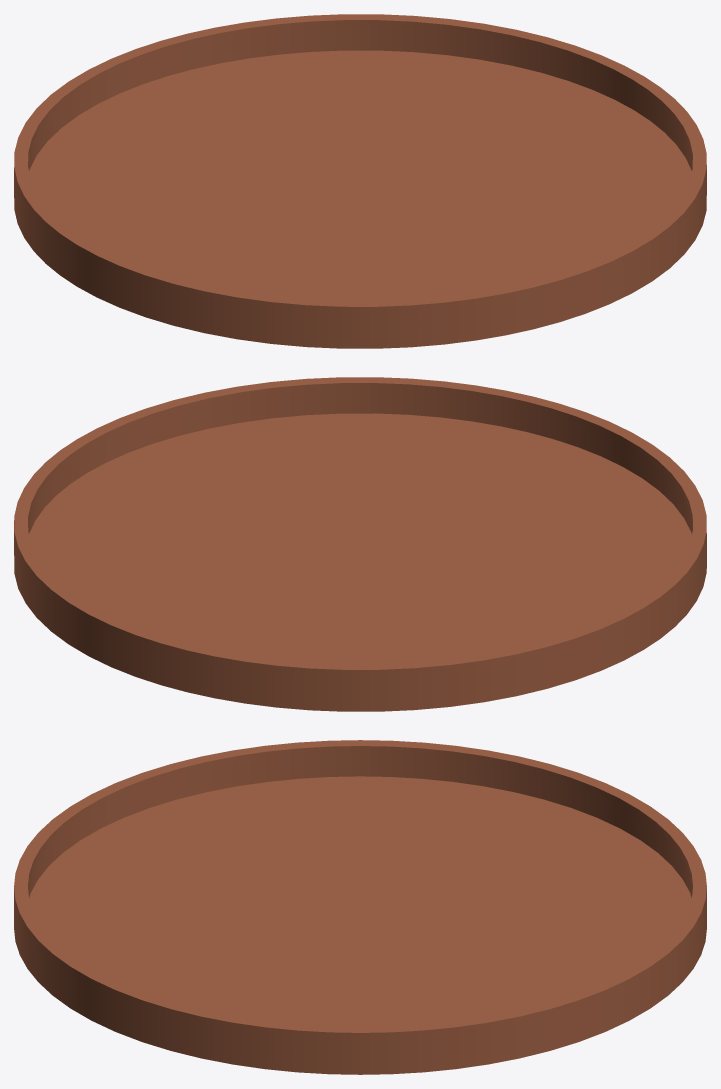
3 views of the same model, one above another, from view 1: azimuth 30°, elevation 25°; view 2: azimuth 150°, elevation 25°; view 3: azimuth 270°, elevation 25° (orthographic).
Parts seen in each view (by area): view 1: Body; view 2: Body; view 3: Body.
Part boxes in pixels (box(x1,y1,x2,y2)): Body: box(14, 14, 706, 348); Body: box(14, 377, 706, 711); Body: box(14, 740, 706, 1074).
Bounding box in the file's own units: 0.3 × 0.02 × 0.3.
